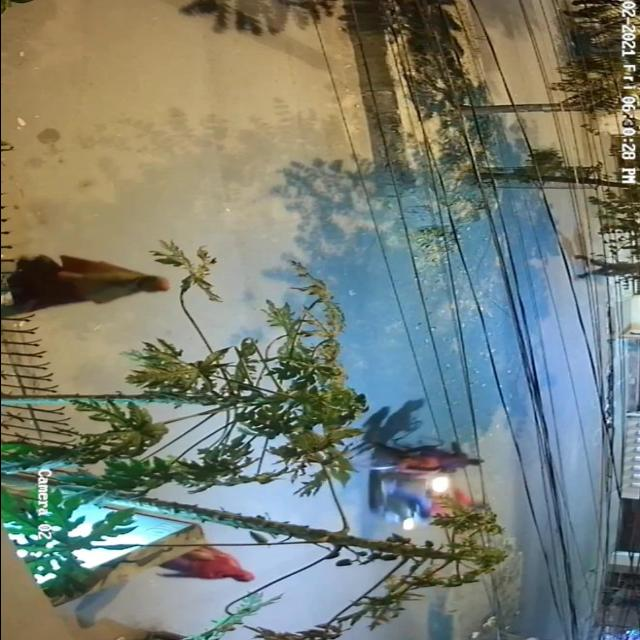accident: (345, 430, 499, 530)
